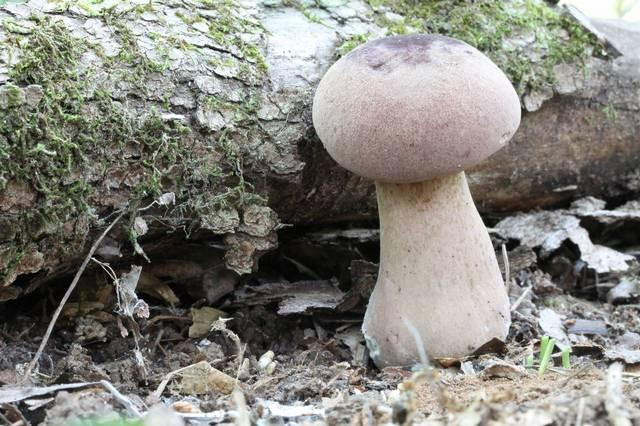Non-edible Mushroom: (310, 32, 522, 369)
